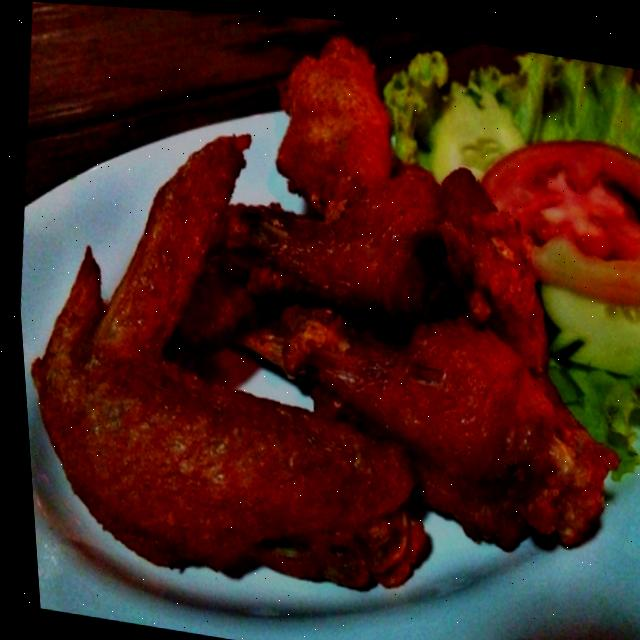鸡肉料理 含炸鸡: (11, 25, 640, 639)
